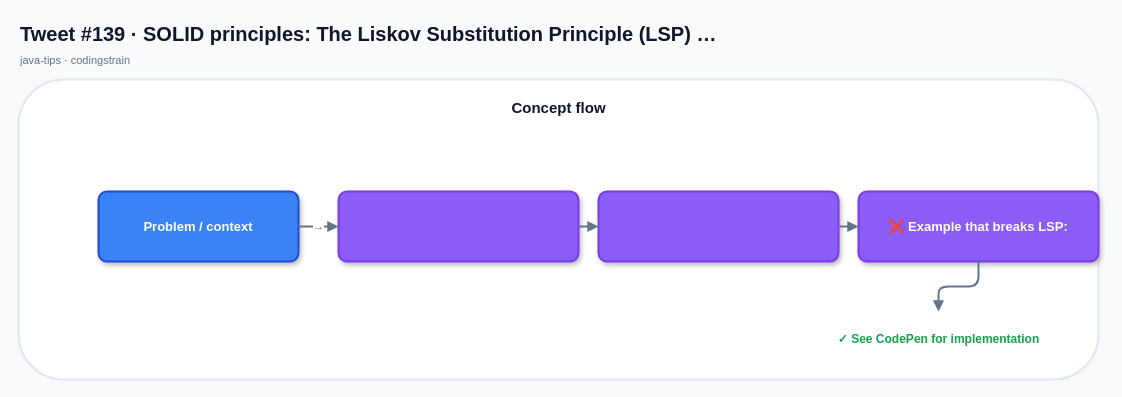
Image size: 1122x397. Some labels were removed from this diagram. Here are the shapes that lost their labels. From the top down, the centre of each, then its label:
At (459,227): "💡SOLID principles: The Liskov Substitution Principle (LSP) states that".
At (719,227): "Subclasses should not behave differently than the base class.".
